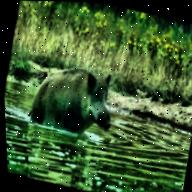boar: (12, 40, 130, 151)
